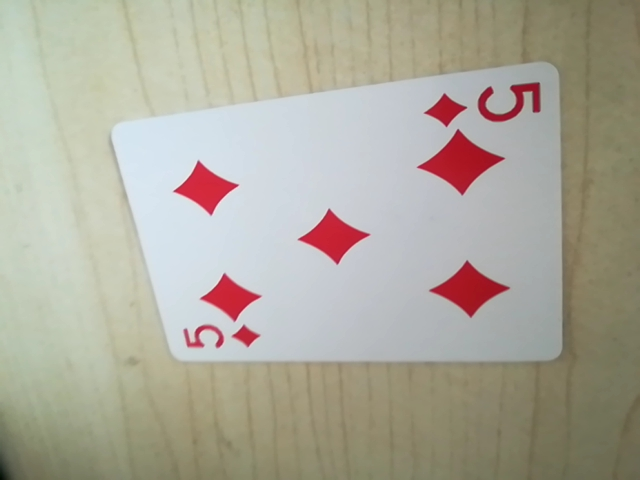fk 5: (424, 76, 544, 132), (177, 318, 266, 360)
